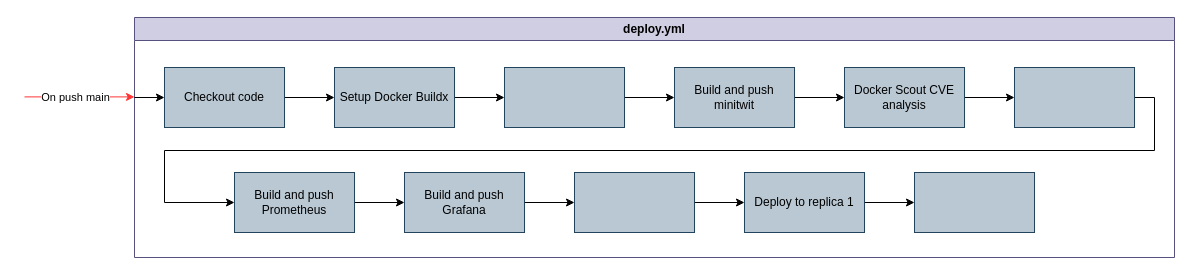
This 1192x275 diagram has some shape labels left out. The centre of each missing label's shape, as x and y in pixels:
Deploy to replica 2: the point at 974,202
Setup SSH key for DO droplets: the point at 634,202
Test minitwit: the point at 564,97
Upload Docker Scout SARIF: the point at 1074,97
